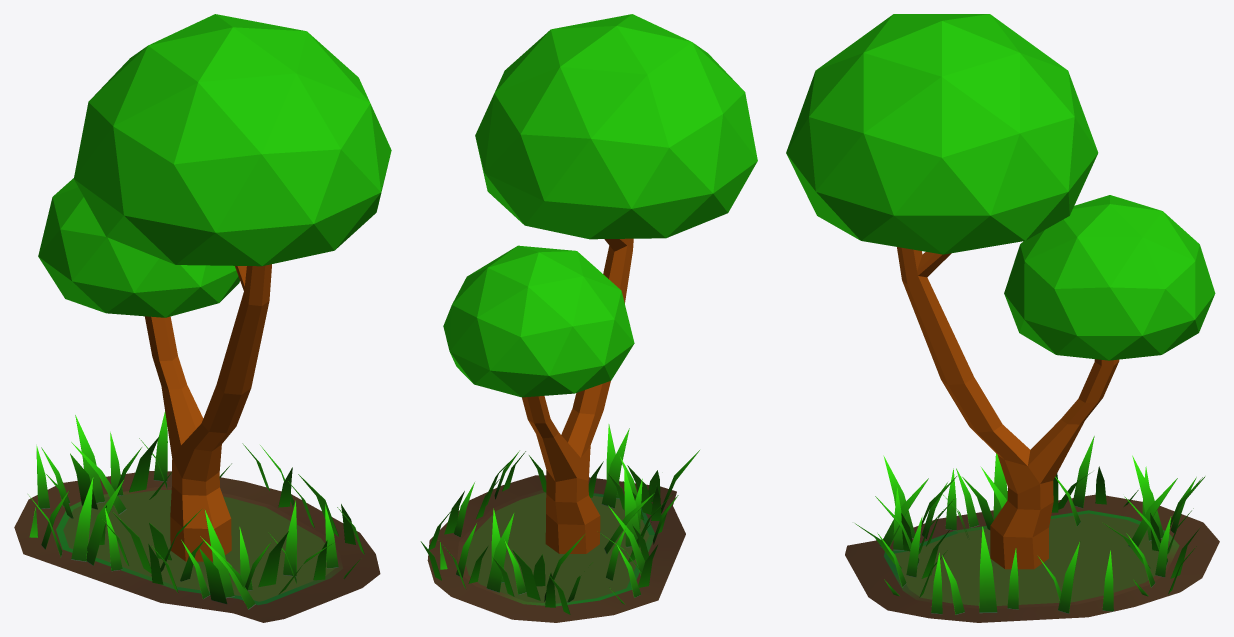
File: Tree2.glb
3 views of the same model, side by side, from view 1: azimuth 30°, elevation 25°; view 2: azimuth 150°, elevation 25°; view 3: azimuth 270°, elevation 25° (orthographic). The views are drawn at different scales.
Visible parts, largest first — view 1: Tree2; view 2: Tree2; view 3: Tree2.
Part boxes in pixels (bbox=[...]): Tree2: bbox=[14, 14, 391, 622]; Tree2: bbox=[420, 14, 757, 622]; Tree2: bbox=[786, 14, 1219, 622].
Bounding box in the file's own units: 0.789 × 1.5 × 1.1.
Materials: 2 (2 with a texture image).
